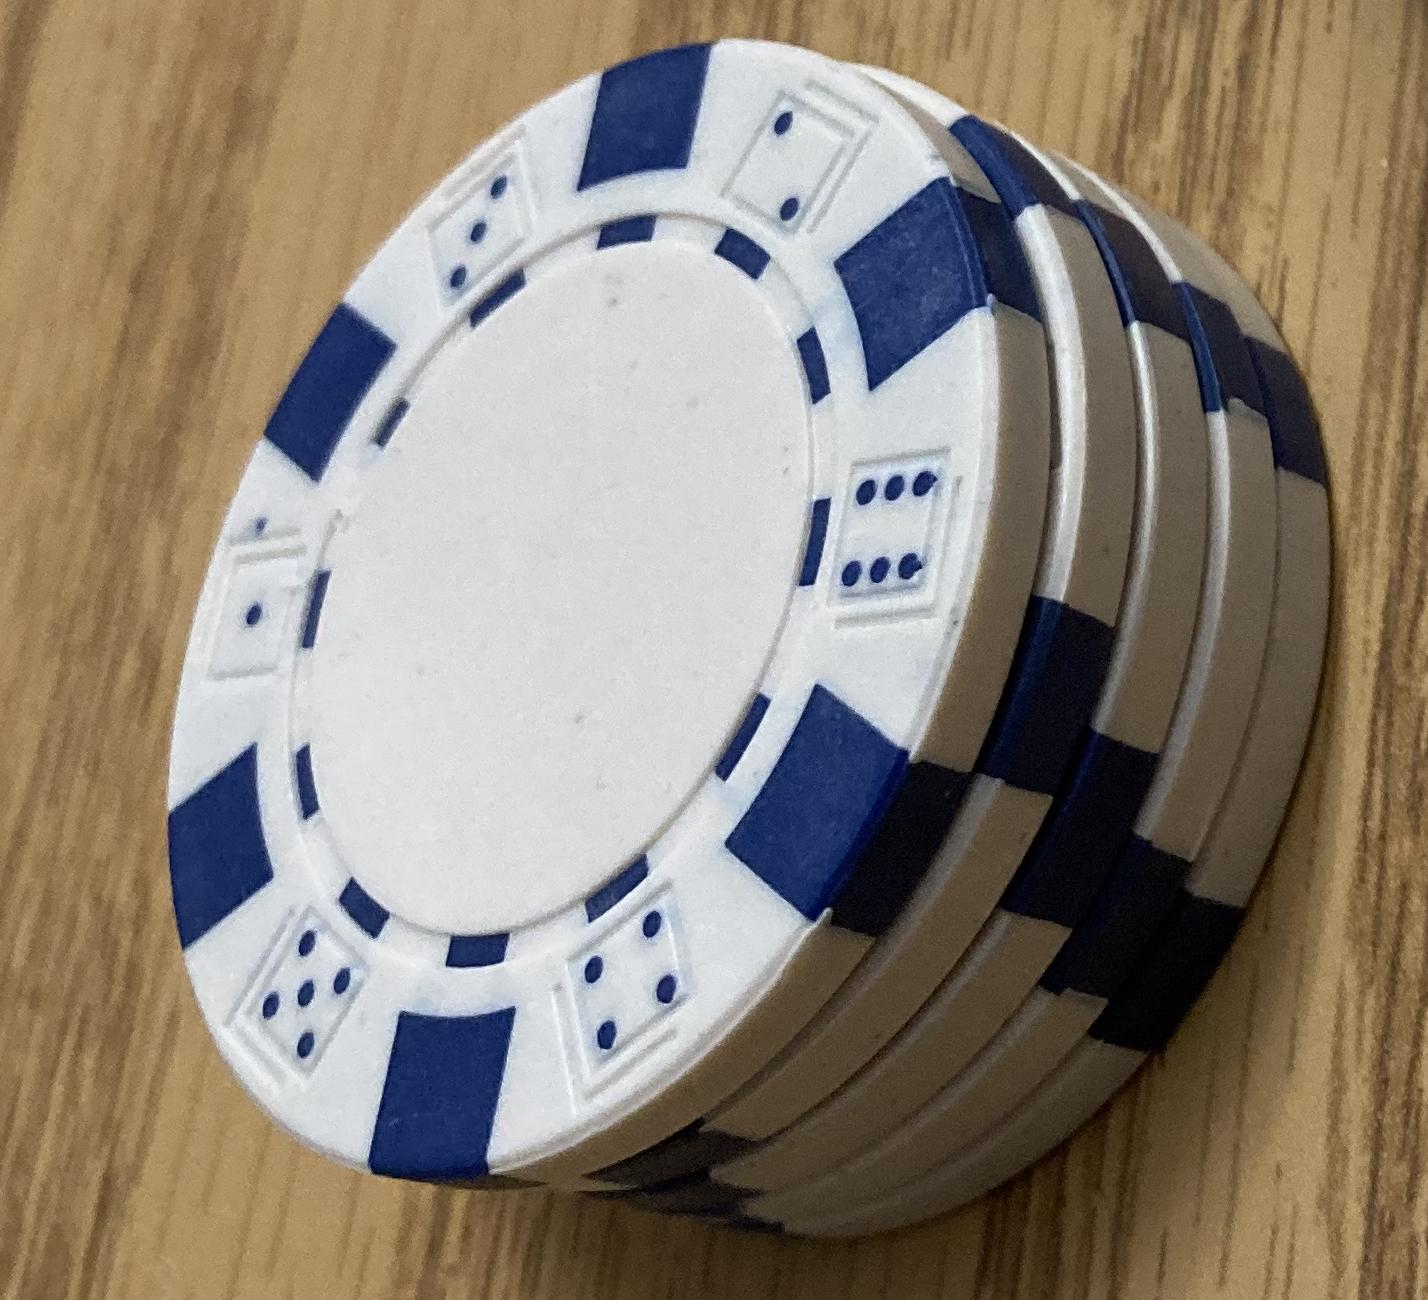Chip: (1, 1, 1428, 1300)
